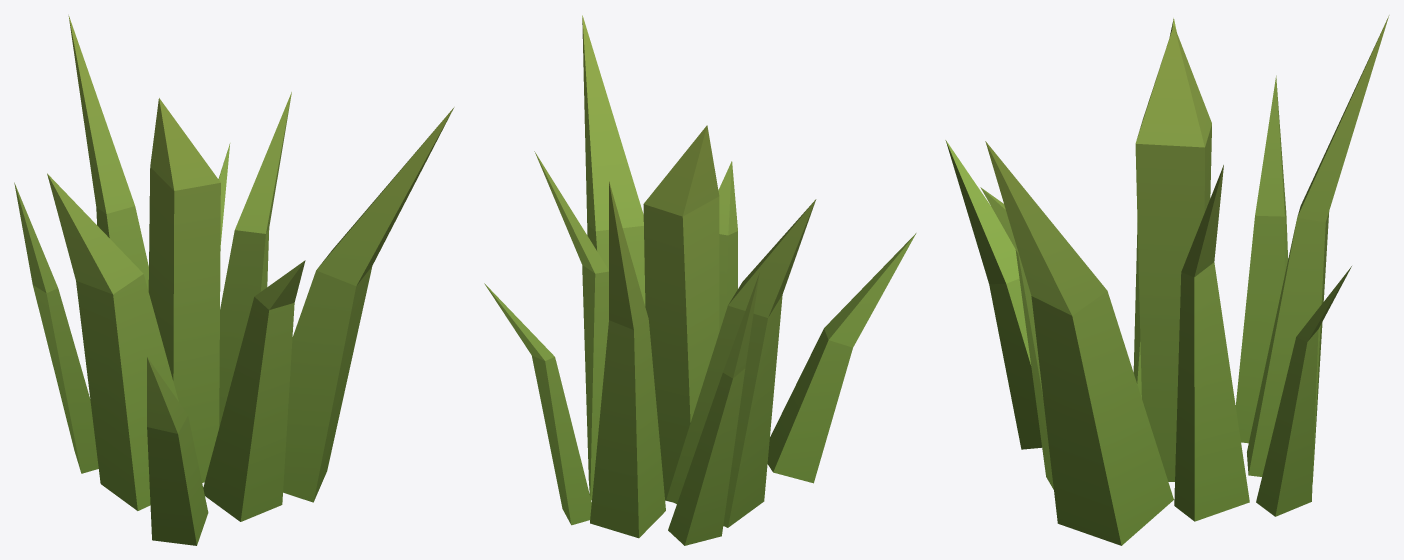
File: Grass_06.fbx
The picture shows the model from 3 angles, left to right: view 1: azimuth 30°, elevation 25°; view 2: azimuth 150°, elevation 25°; view 3: azimuth 270°, elevation 25°; orthographic projection. The views are drawn at different scales.
Visible parts, largest first — view 1: Grass_06; view 2: Grass_06; view 3: Grass_06.
Boxes of the visible parts, x1,y1,x2,y2 form: Grass_06: (14, 15, 454, 545); Grass_06: (484, 15, 916, 545); Grass_06: (945, 15, 1389, 545).
Size of the model in its own units: 0.5221 by 0.6202 by 0.5478.
